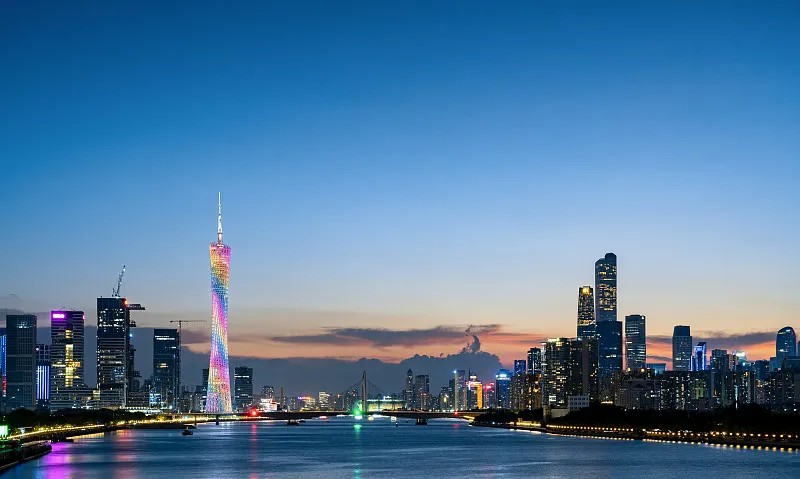Canton: (202, 188, 233, 415)
